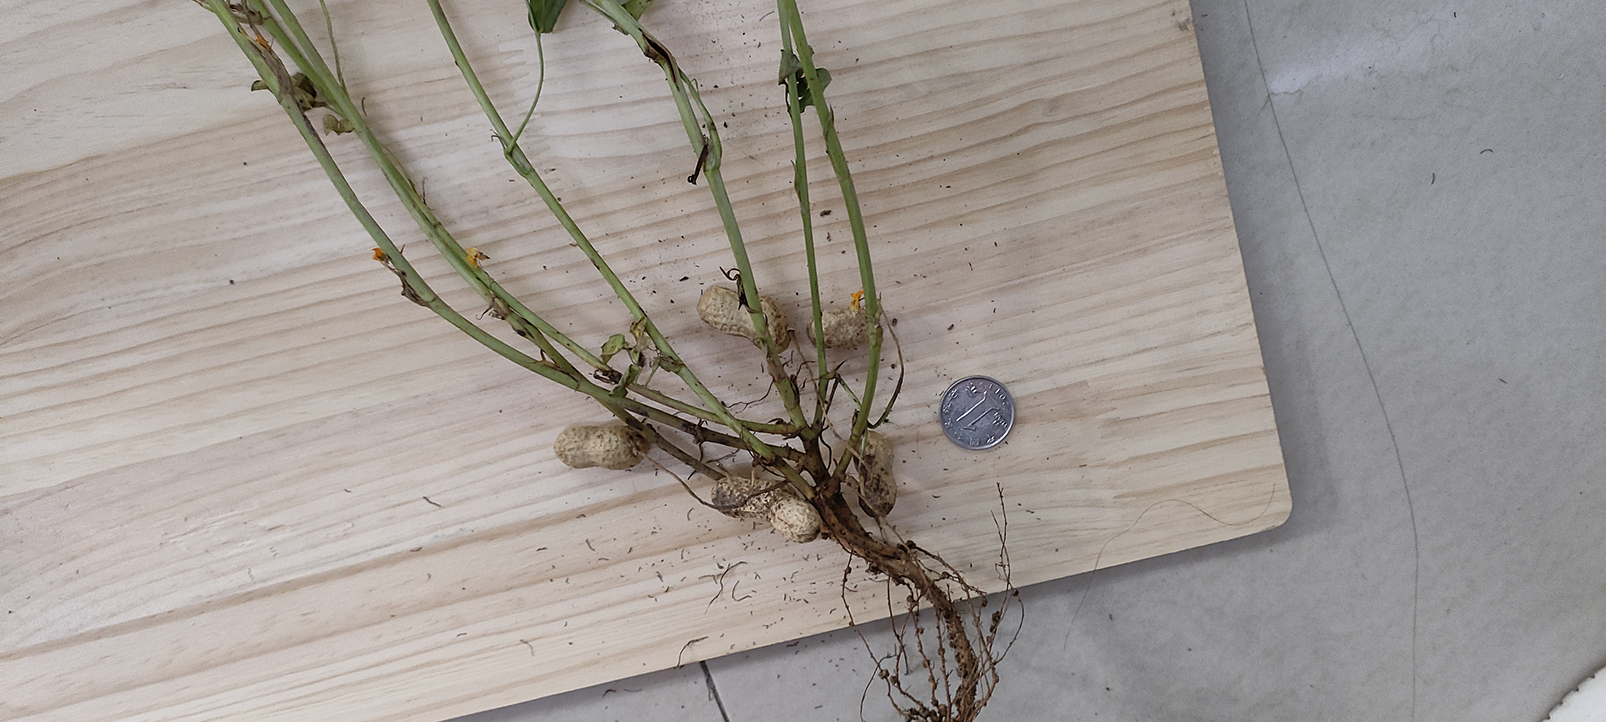h: (711, 474, 822, 543), (698, 286, 790, 353), (553, 427, 645, 470), (809, 306, 865, 351)
l: (852, 430, 897, 517)
